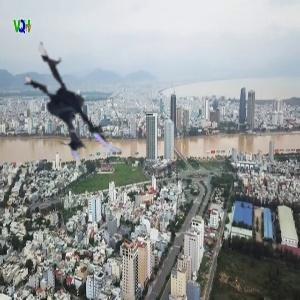drone: (13, 35, 148, 170)
